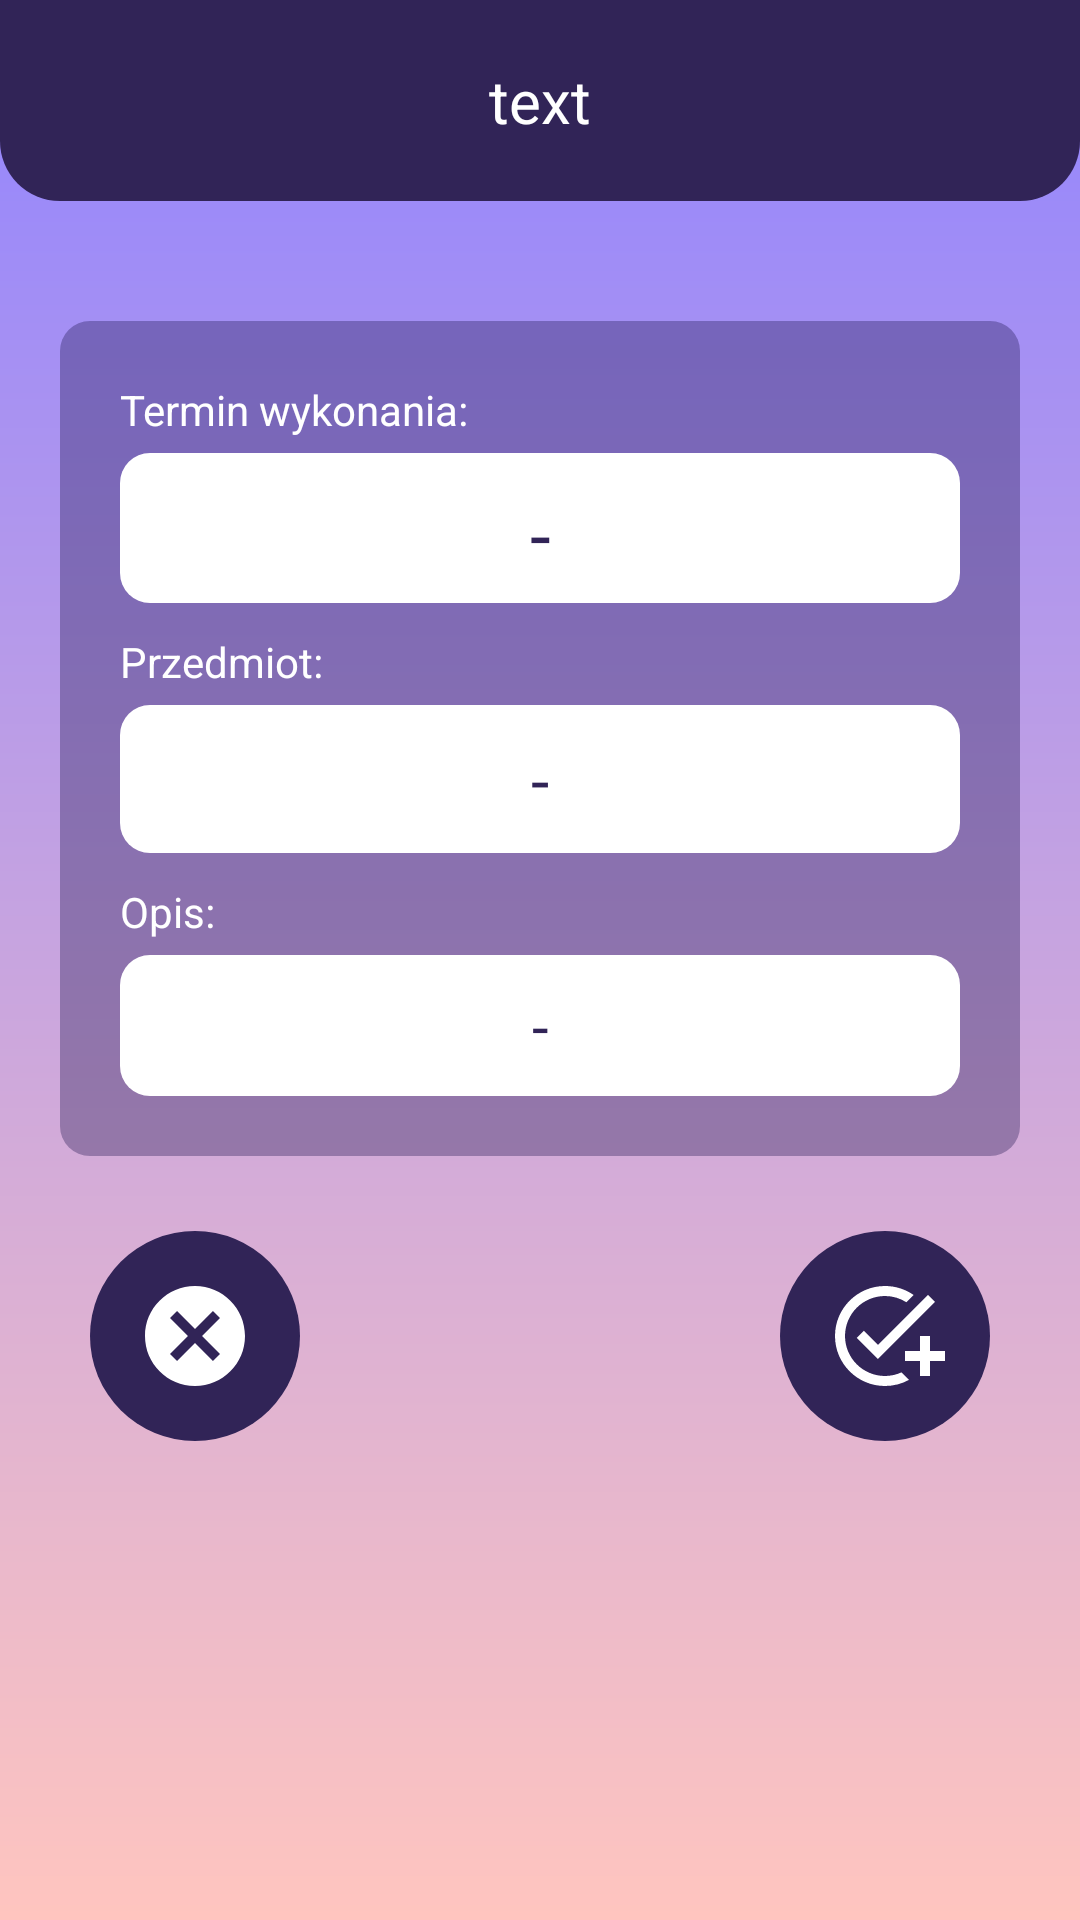

Screen size 1080×1920. Icon name, then its center in pixels as (x=x, y=y):
add homework: (x=885, y=1336)
delete button: (x=195, y=1336)
